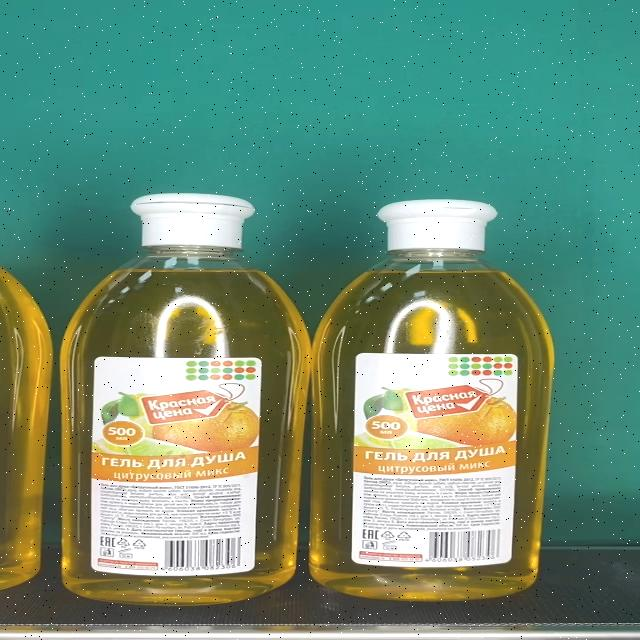Bottle: (60, 194, 311, 605), (309, 200, 554, 600)
Cap: (130, 195, 255, 248), (377, 200, 502, 253)
